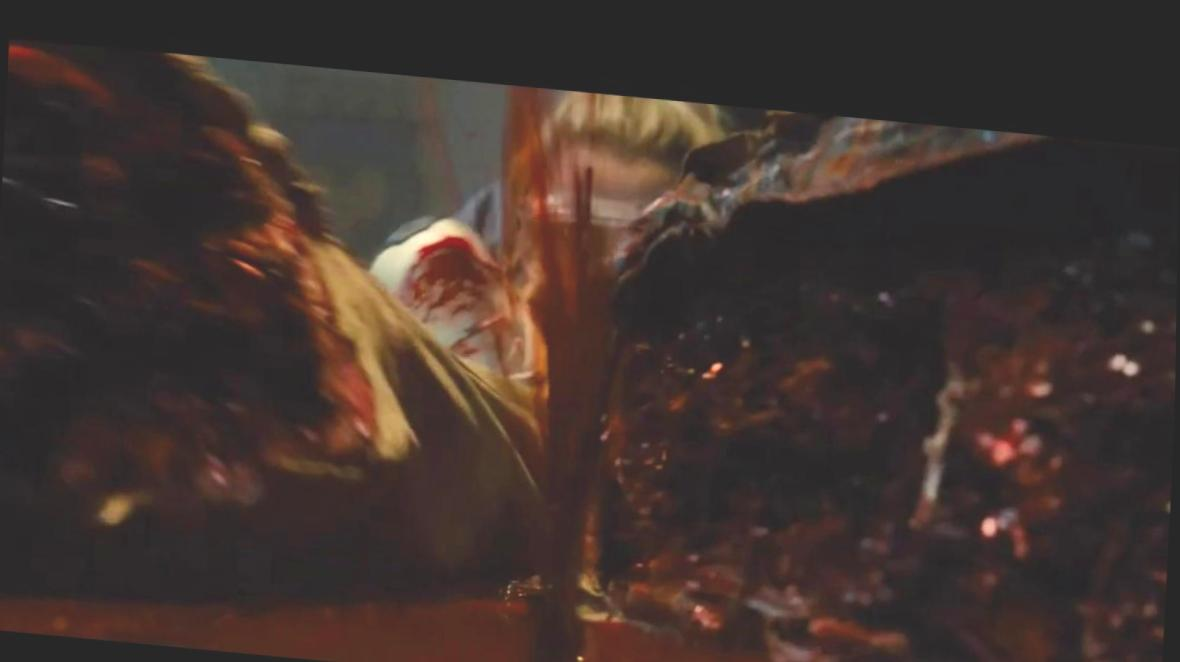Fire: (0, 82, 1179, 662), (0, 39, 380, 501)
